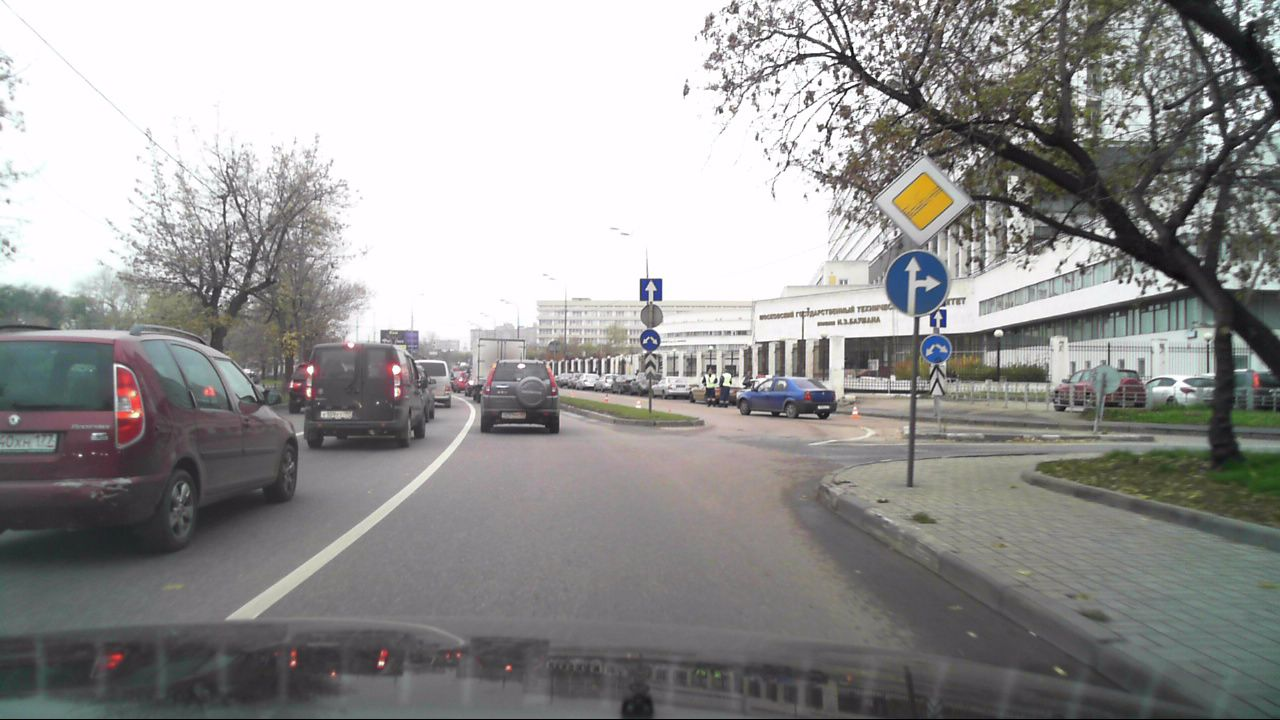main road: (871, 154, 973, 249)
